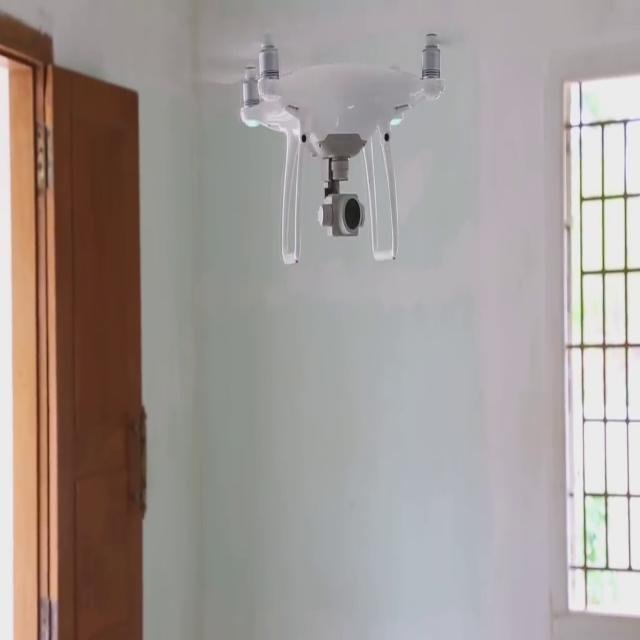drone: (200, 27, 474, 285)
